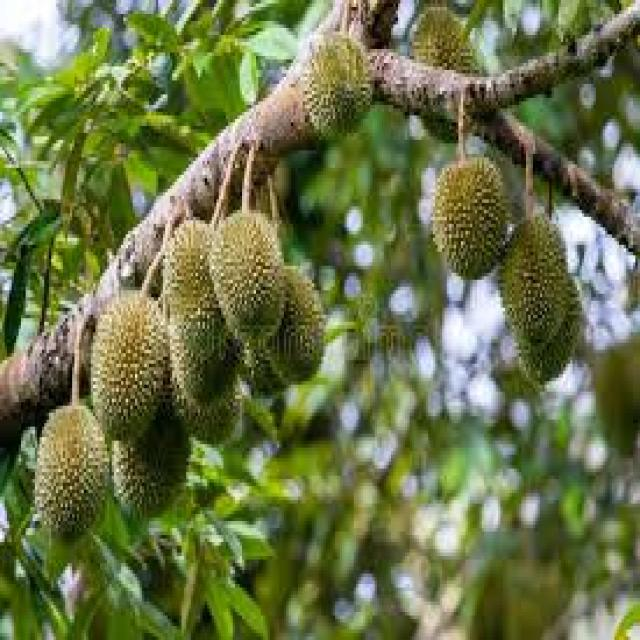mature: (90, 289, 168, 444), (35, 404, 109, 546), (211, 204, 287, 342), (431, 154, 509, 276)
